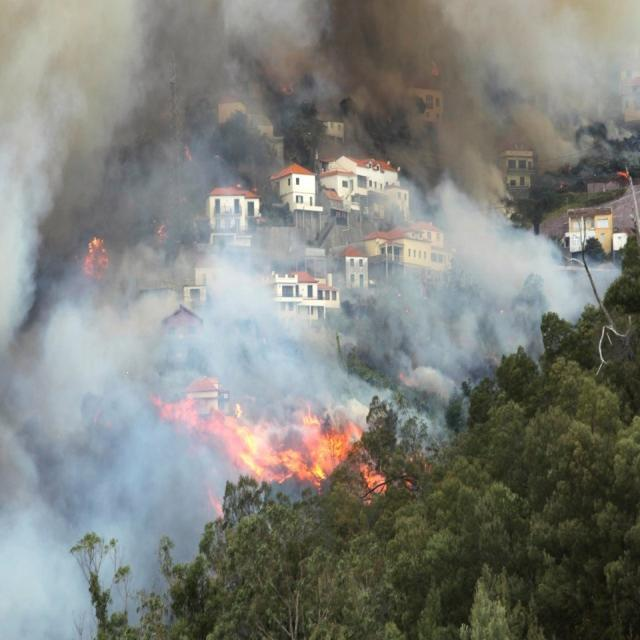Fire: (153, 392, 387, 497), (85, 238, 106, 273)
Smoke: (110, 174, 617, 386), (0, 0, 331, 163), (0, 171, 79, 640)
